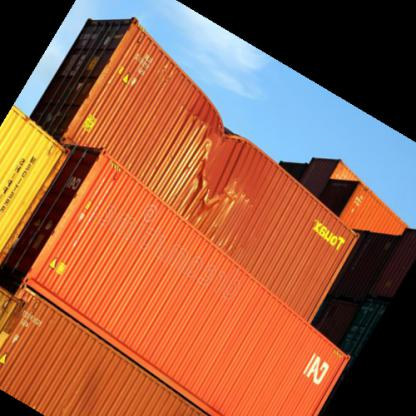Damage: (188, 124, 256, 204)
